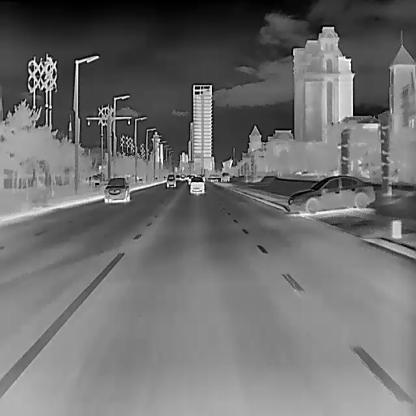car: (288, 174, 376, 214), (102, 176, 128, 202), (189, 176, 205, 194), (165, 173, 176, 187), (219, 171, 229, 183)
